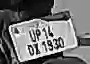0: (58, 37, 65, 49)
1: (41, 41, 48, 53), (42, 27, 48, 39)
3: (53, 39, 59, 49)
4: (47, 26, 54, 38)
9: (46, 38, 54, 52)
D: (27, 44, 36, 57)
P: (35, 28, 42, 41)
U: (29, 29, 37, 42)
X: (33, 42, 43, 55)
